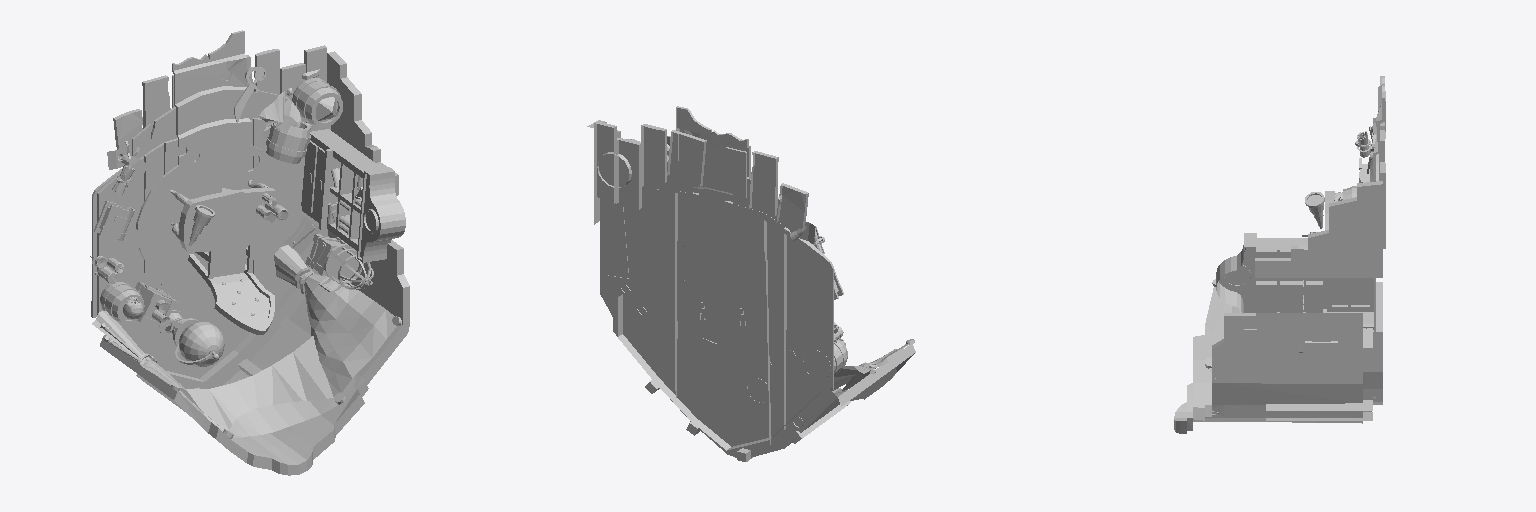
Rendered from pirate.obj.
3 views of the same model, side by side, from view 1: azimuth 30°, elevation 25°; view 2: azimuth 150°, elevation 25°; view 3: azimuth 270°, elevation 25° (orthographic).
Visible parts, largest first — view 1: pirate; view 2: pirate; view 3: pirate.
Boxes of the visible parts, <box> form: pirate: <box>90,30,409,475</box>; pirate: <box>587,106,915,461</box>; pirate: <box>1174,76,1385,433</box>.
Size of the model in its own units: 474 by 619 by 335.